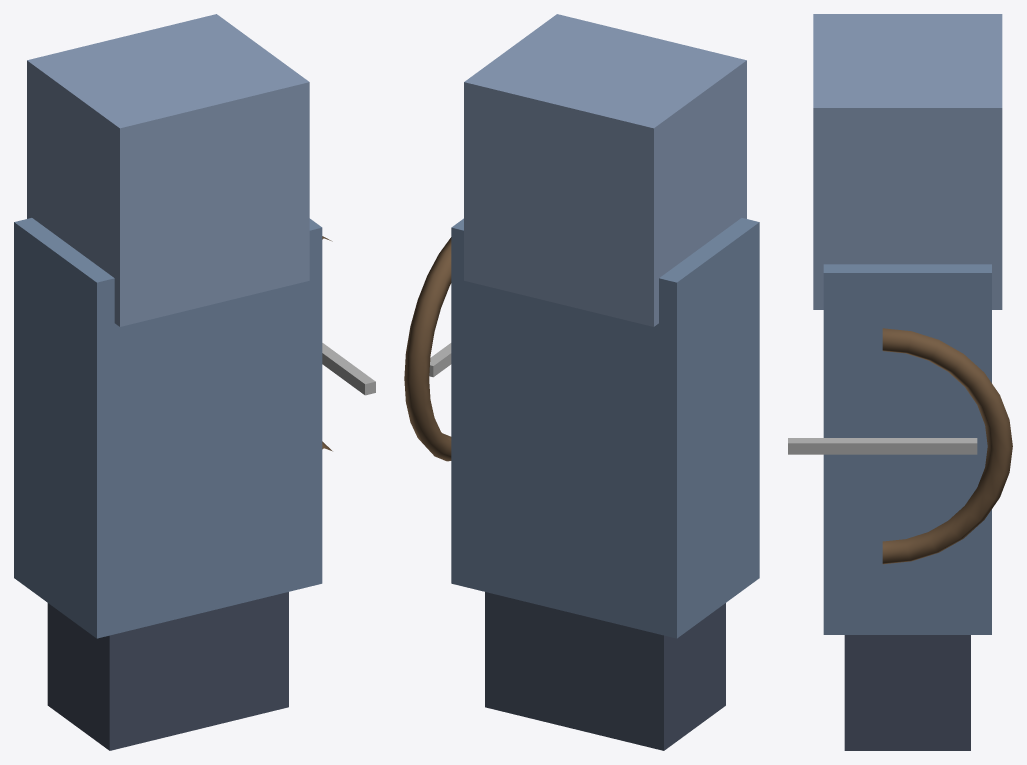
Rendered from archer_goblin.glb.
The picture shows the model from 3 angles, left to right: view 1: azimuth 30°, elevation 25°; view 2: azimuth 150°, elevation 25°; view 3: azimuth 270°, elevation 25°; orthographic projection.
Parts seen in each view (by area): view 1: Torso, Weapon; view 2: Torso, Weapon; view 3: Torso, Weapon.
Part boxes in pixels (<box>): Torso: <box>14,14,322,750</box>; Weapon: <box>322,236,375,451</box>; Torso: <box>451,14,759,750</box>; Weapon: <box>404,237,451,461</box>; Torso: <box>813,14,1002,750</box>; Weapon: <box>788,328,1012,564</box>.
Bounding box in the file's own units: 0.741 × 1.69 × 0.535.
